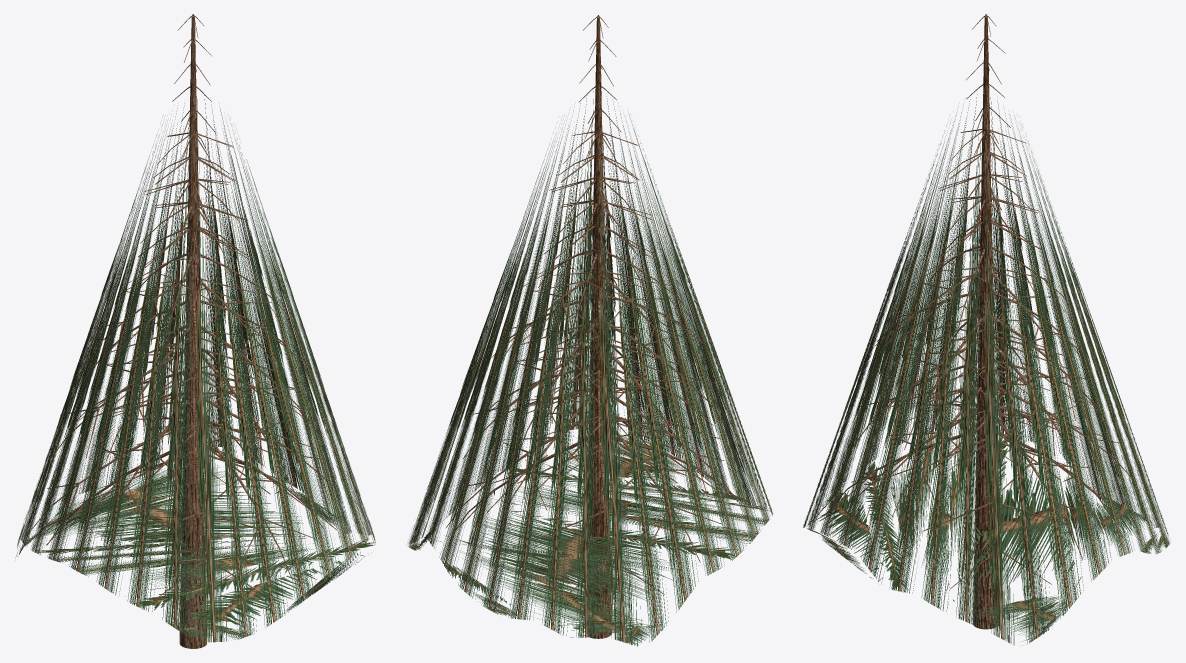
Rendered from tree1_2.dae.
3 views of the same model, side by side, from view 1: azimuth 30°, elevation 25°; view 2: azimuth 150°, elevation 25°; view 3: azimuth 270°, elevation 25° (orthographic). The views are drawn at different scales.
Parts seen in each view (by area): view 1: Cone, tree; view 2: Cone, tree; view 3: Cone, tree.
Boxes of the visible parts, <box> form: Cone: <box>15,95,375,642</box>; tree: <box>32,14,339,648</box>; Cone: <box>408,91,773,646</box>; tree: <box>446,15,748,638</box>; Cone: <box>803,94,1169,645</box>; tree: <box>833,14,1131,629</box>.
Bounding box in the file's own units: 3.17 × 3.31 × 6.03.
Materials: 3 (3 with a texture image).
